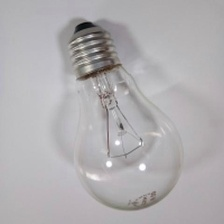light_bulb: (57, 15, 186, 215)
